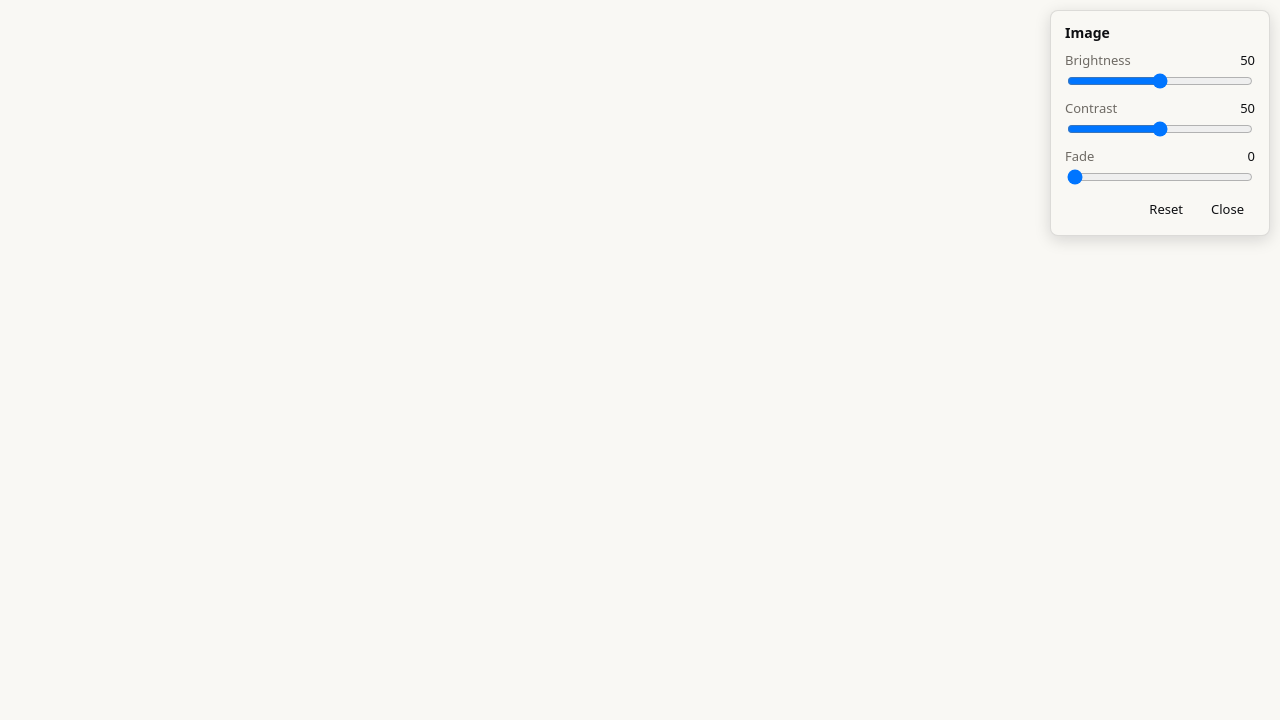
a refused setting is shown and can be tried again
Set the slider labelled "Contrast 50" to "80" at (1211, 129), box [1067, 121, 1253, 137]
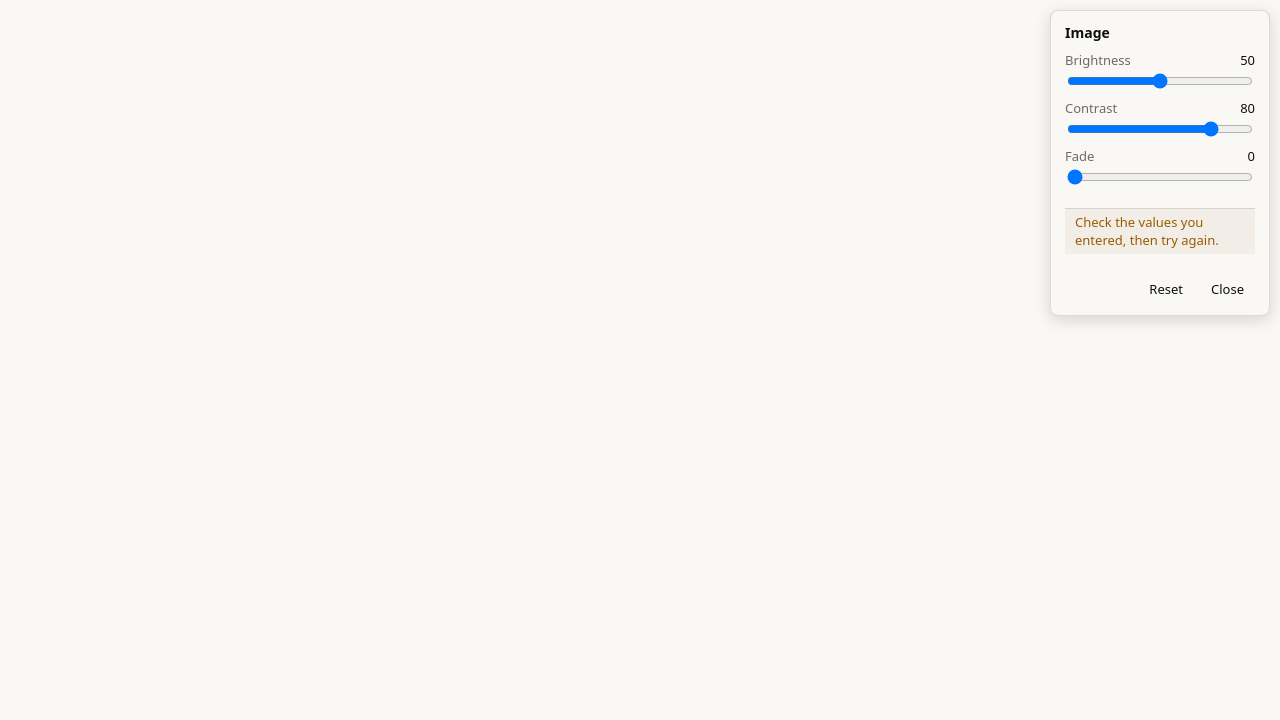
Expected: the message reads "Check the values you entered, then try again.", [1075, 213, 1219, 249]
